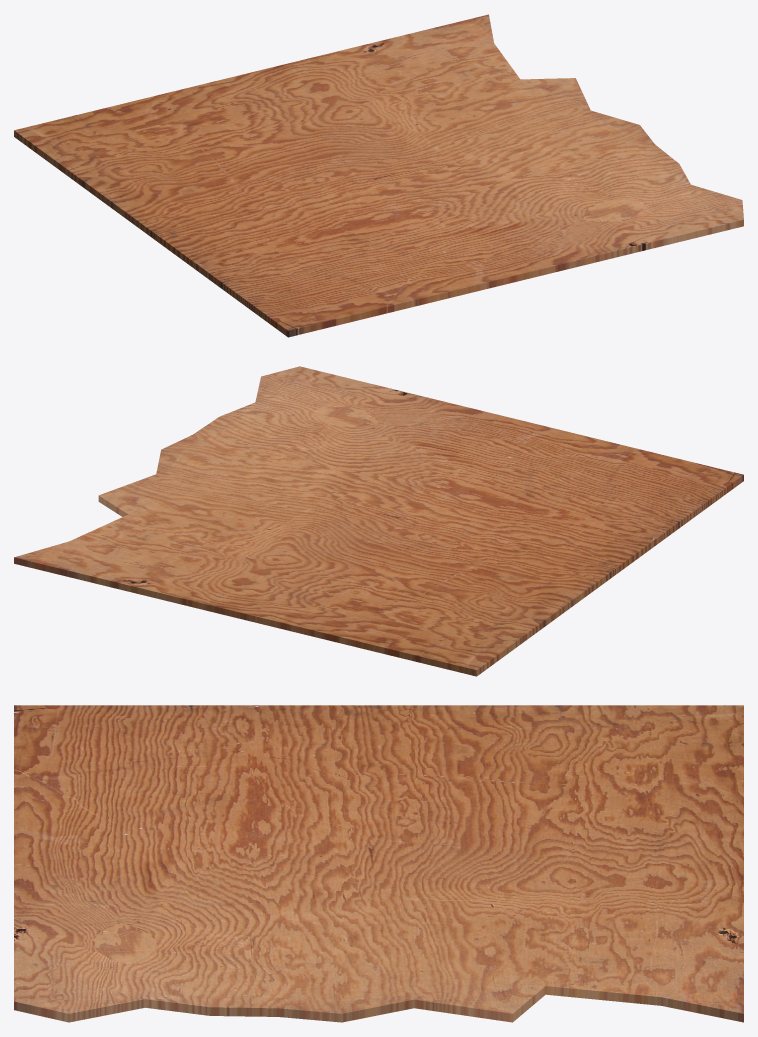
The model's file is Debris_Plywood.fbx.
3 renders of one model, top to bottom at view 1: azimuth 30°, elevation 25°; view 2: azimuth 150°, elevation 25°; view 3: azimuth 270°, elevation 25°, orthographic. The views are drawn at different scales.
Visible parts, largest first — view 1: pCube2; view 2: pCube2; view 3: pCube2.
Part boxes in pixels (x1=…): pCube2: x1=14, y1=14, x2=743, y2=337; pCube2: x1=14, y1=366, x2=743, y2=676; pCube2: x1=14, y1=705, x2=743, y2=1022.
Size of the model in its own units: 14.19 by 0.1857 by 14.19.
Materials: 1 (1 with a texture image).
